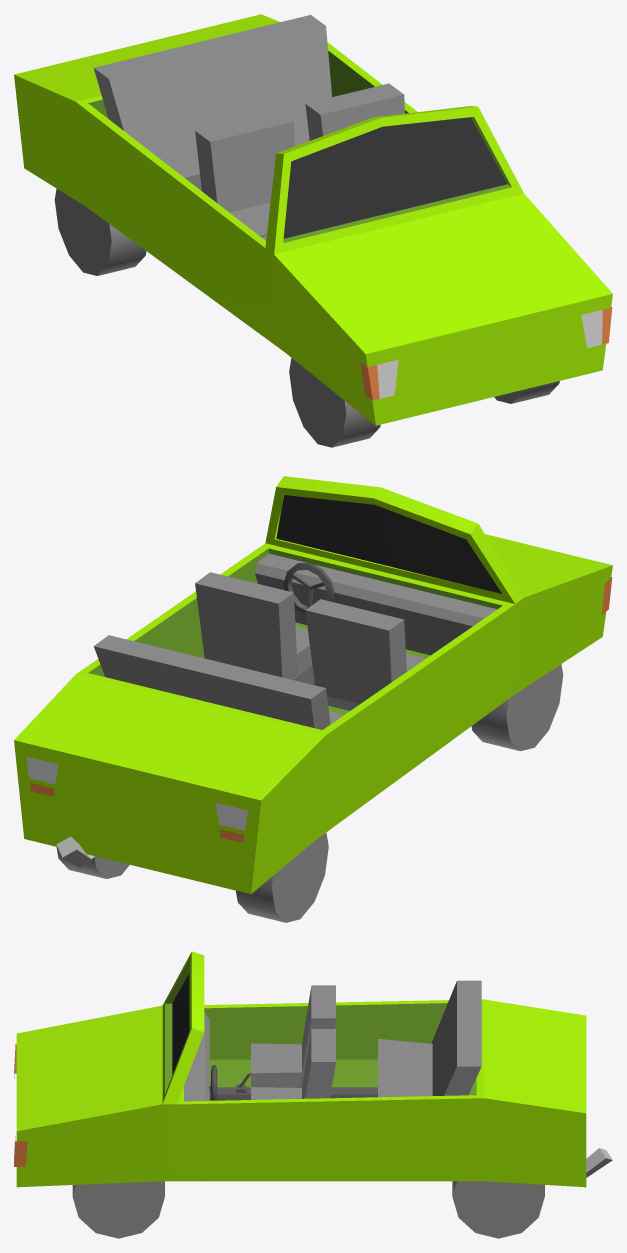
The model's file is cabrio_07.fbx.
3 renders of one model, top to bottom at view 1: azimuth 30°, elevation 25°; view 2: azimuth 150°, elevation 25°; view 3: azimuth 270°, elevation 25°, orthographic. The views are drawn at different scales.
Parts seen in each view (by area): view 1: cabrio_07; view 2: cabrio_07; view 3: cabrio_07.
Boxes of the visible parts, bbox=[...] form: cabrio_07: bbox=[14, 14, 612, 447]; cabrio_07: bbox=[14, 476, 612, 922]; cabrio_07: bbox=[14, 951, 612, 1238].
Bounding box in the file's own units: 1.6 × 1.63 × 4.1.
